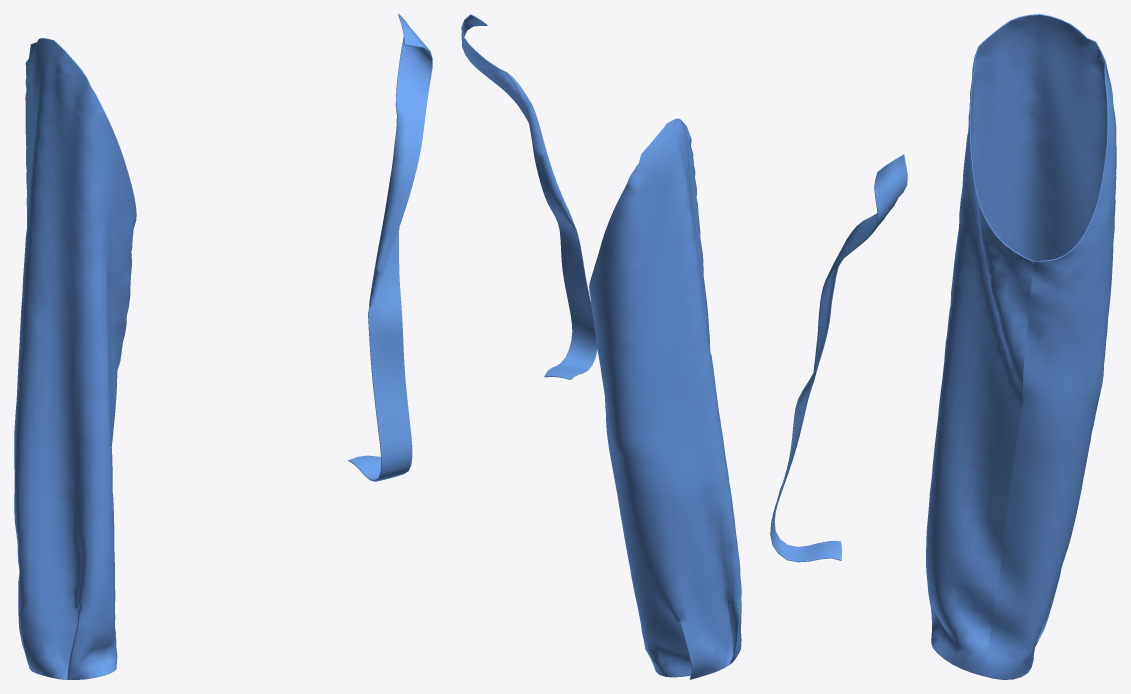
3 renders of one model, left to right at view 1: azimuth 30°, elevation 25°; view 2: azimuth 150°, elevation 25°; view 3: azimuth 270°, elevation 25°, orthographic. The views are drawn at different scales.
Visible parts, largest first — view 1: Object_4; view 2: Object_4; view 3: Object_4.
Part boxes in pixels (x1,y1,x2,y2): Object_4: (14, 14, 432, 679); Object_4: (461, 14, 741, 679); Object_4: (770, 14, 1116, 679).
Bounding box in the file's own units: 0.3167 × 0.5213 × 0.249.
